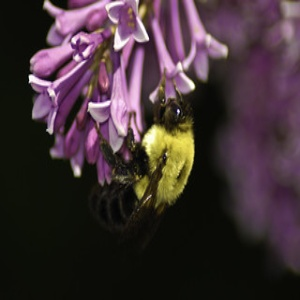bee: (89, 80, 196, 262)
